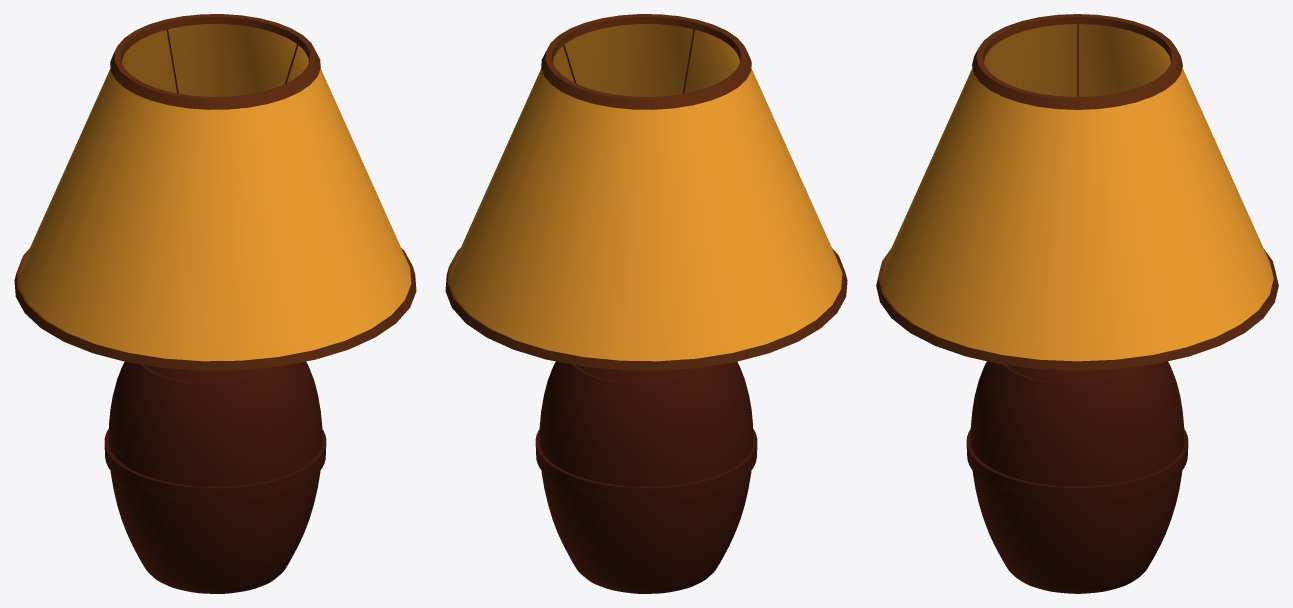
The model's file is Table Lamp.fbx.
The picture shows the model from 3 angles, left to right: view 1: azimuth 30°, elevation 25°; view 2: azimuth 150°, elevation 25°; view 3: azimuth 270°, elevation 25°; orthographic projection.
Visible parts, largest first — view 1: Lamp; view 2: Lamp; view 3: Lamp.
Part boxes in pixels (x1=…): Lamp: x1=14, y1=14, x2=416, y2=593; Lamp: x1=445, y1=14, x2=847, y2=593; Lamp: x1=876, y1=14, x2=1278, y2=593.
Bounding box in the file's own units: 5.59 × 7.87 × 5.59.
